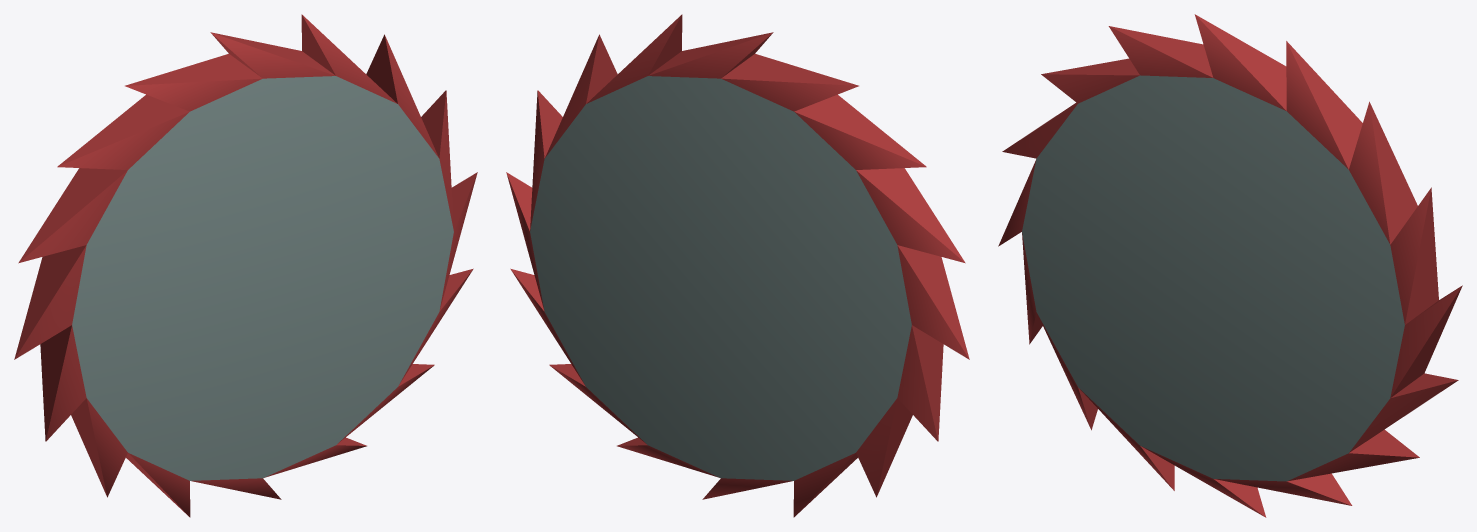
File: pila.fbx
3 views of the same model, side by side, from view 1: azimuth 30°, elevation 25°; view 2: azimuth 150°, elevation 25°; view 3: azimuth 330°, elevation 25° (orthographic).
Visible parts, largest first — view 1: pila_mesh; view 2: pila_mesh; view 3: pila_mesh.
Boxes of the visible parts, bbox=[...] form: pila_mesh: bbox=[14, 14, 477, 517]; pila_mesh: bbox=[506, 14, 969, 517]; pila_mesh: bbox=[998, 14, 1462, 517].
Size of the model in its own units: 2.43 by 2.43 by 0.309.
